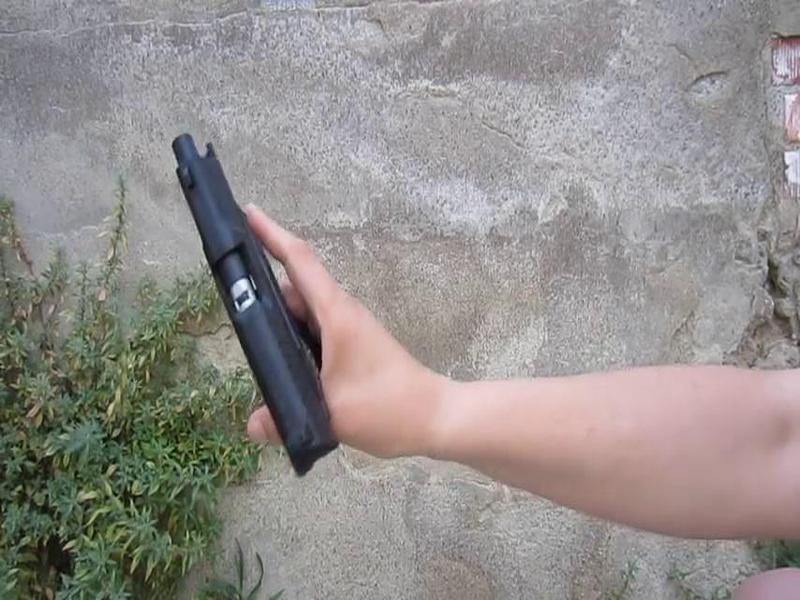Pistola: (157, 128, 388, 509)
